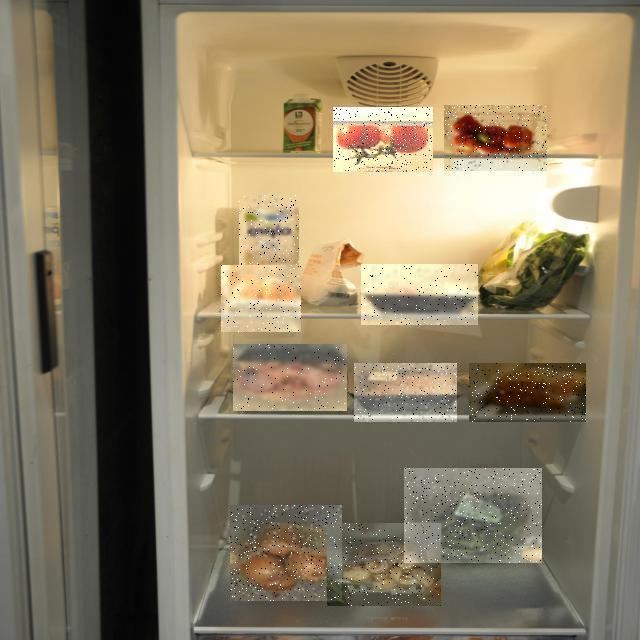Beans: (404, 468, 542, 563)
Bread: (469, 363, 586, 422)
Eggs: (221, 265, 301, 332)
Meat: (233, 344, 347, 411), (361, 264, 478, 325), (354, 363, 457, 422)
Milk: (239, 195, 299, 288)
Mushroom: (327, 523, 441, 606)
Onion: (230, 505, 342, 601)
Straw Berry: (444, 105, 547, 171)
Tomatoes: (333, 107, 433, 172)
